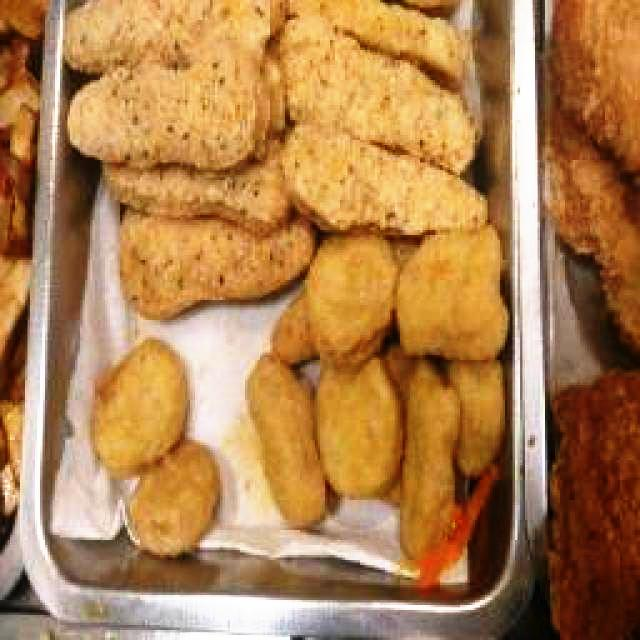chicken_nuggets: (250, 231, 511, 556), (94, 341, 189, 472), (131, 444, 220, 555)
